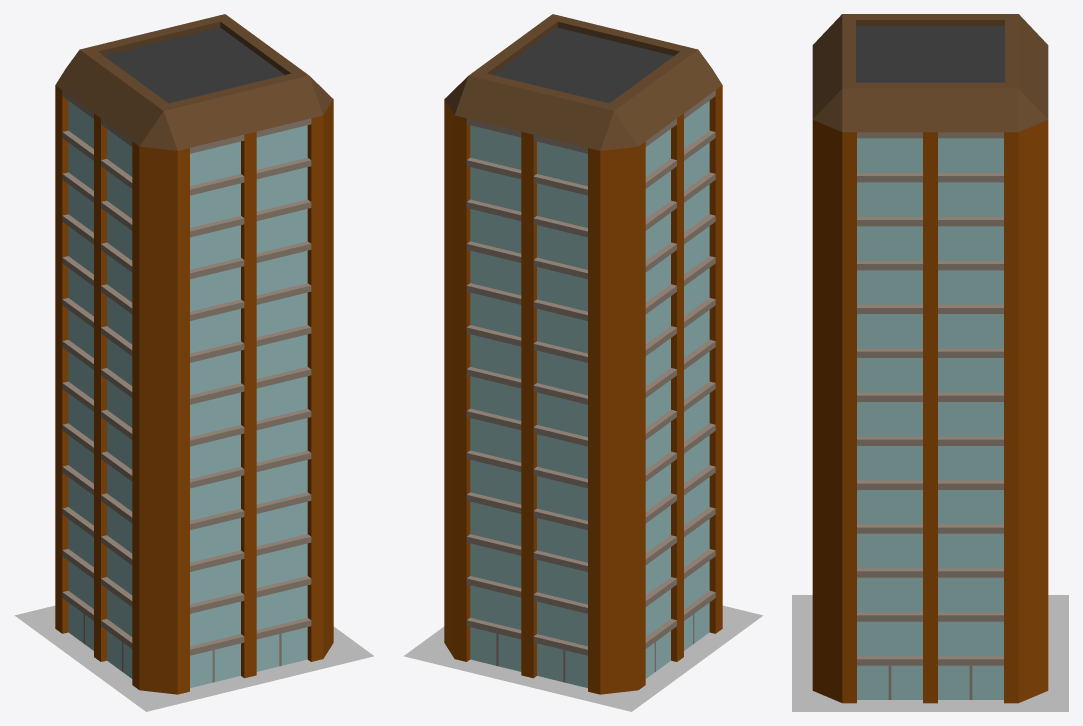
Rendered from building1-6.dae.
3 renders of one model, left to right at view 1: azimuth 30°, elevation 25°; view 2: azimuth 150°, elevation 25°; view 3: azimuth 270°, elevation 25°, orthographic. The views are drawn at different scales.
Parts seen in each view (by area): view 1: SketchUp (×63); view 2: SketchUp (×63); view 3: SketchUp (×61).
Part boxes in pixels (<box>): SketchUp (×63): <box>14,14,373,711</box>; SketchUp (×63): <box>404,14,763,711</box>; SketchUp (×61): <box>792,14,1068,711</box>.
Size of the model in its own units: 39.37 by 39.37 by 94.45.
